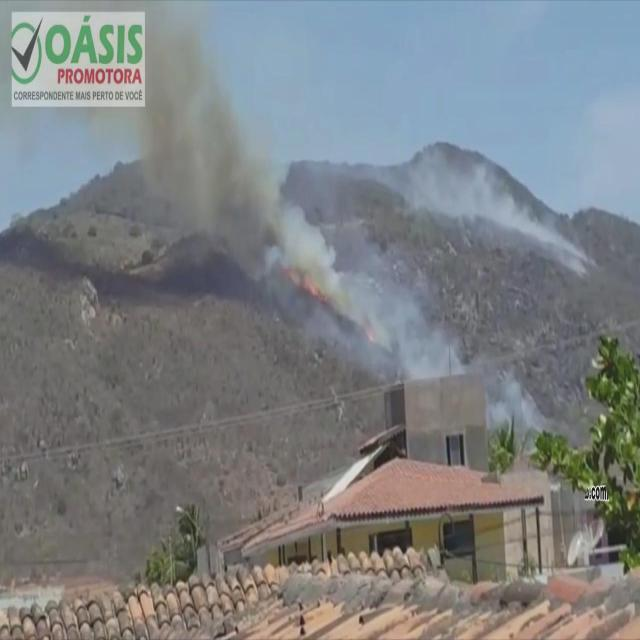Fire: (303, 264, 322, 299)
Smoke: (146, 12, 322, 260), (406, 170, 604, 288), (330, 252, 462, 401), (490, 367, 550, 444)
